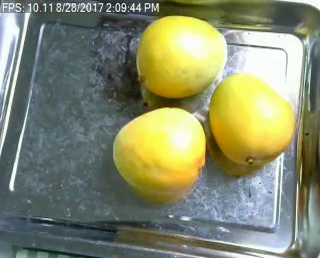Mango: (207, 73, 296, 165), (114, 109, 204, 192), (138, 15, 225, 97)
